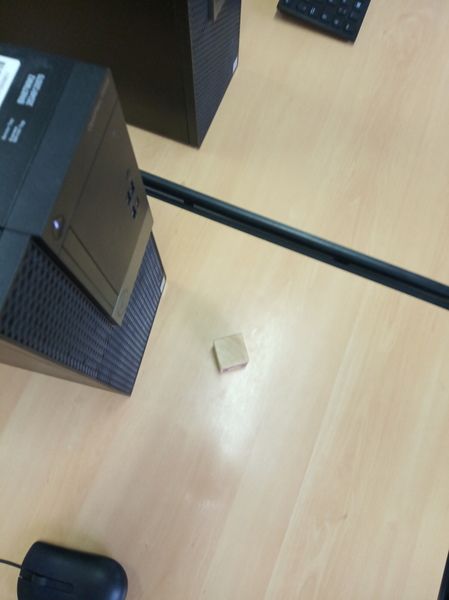violet: (210, 330, 253, 378)
